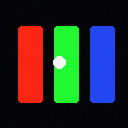2 circle: (53, 56, 65, 68)
